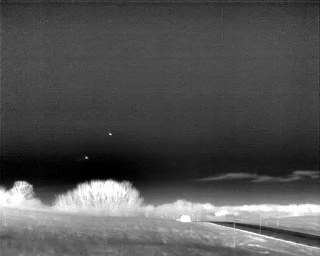BIRD: (107, 130, 114, 138)
